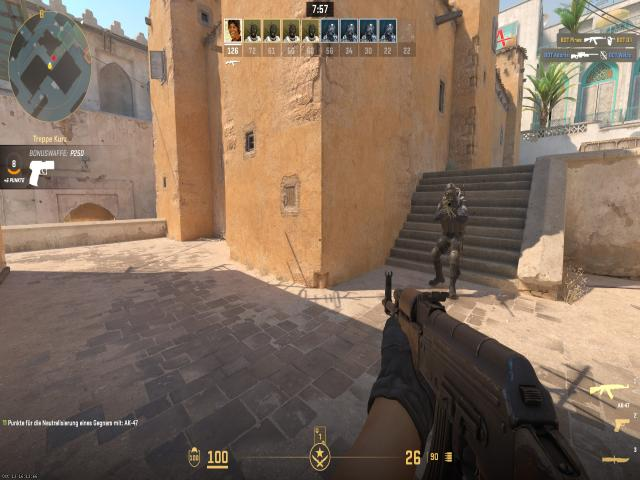CT: (437, 182, 468, 275)
CT-Head: (445, 182, 457, 198)
